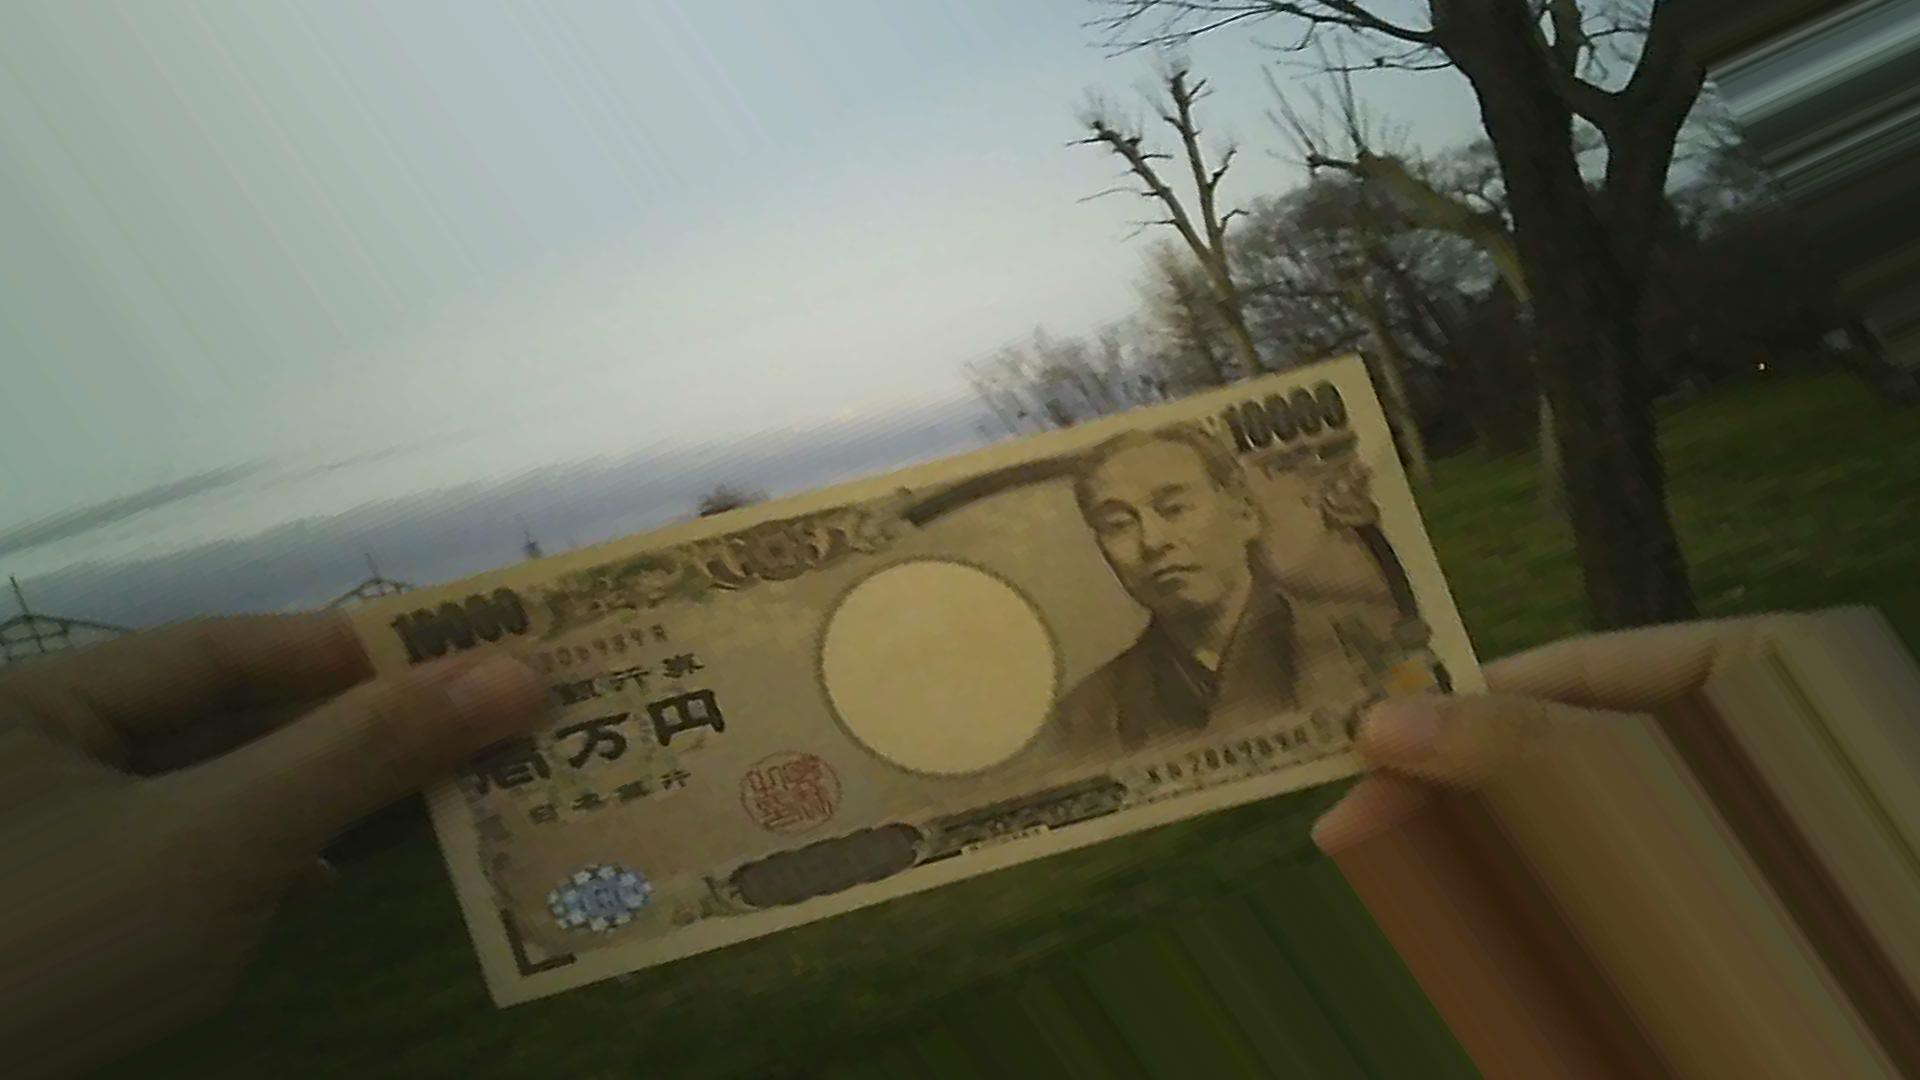10,000 Yen: (356, 334, 1493, 998)
